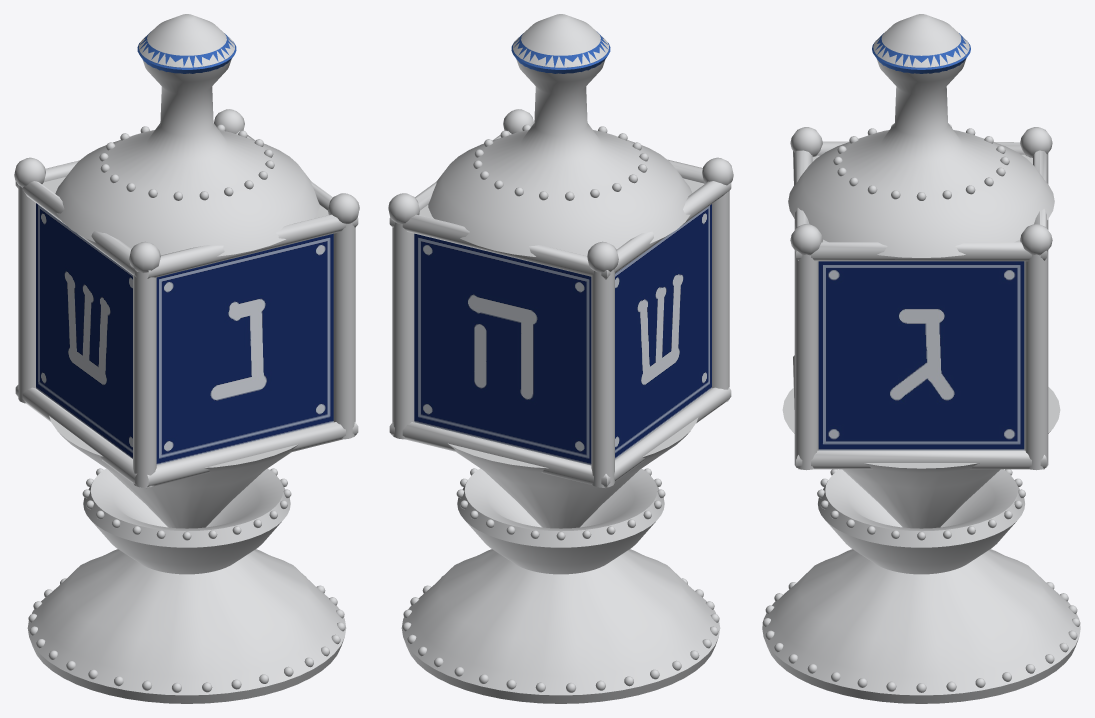
File: dreidel_large.glb
3 renders of one model, left to right at view 1: azimuth 30°, elevation 25°; view 2: azimuth 150°, elevation 25°; view 3: azimuth 270°, elevation 25°, orthographic.
Visible parts, largest first — view 1: Dreidel_Large_Heirloom; view 2: Dreidel_Large_Heirloom; view 3: Dreidel_Large_Heirloom.
Part boxes in pixels (<box>): Dreidel_Large_Heirloom: <box>14,14,359,703</box>; Dreidel_Large_Heirloom: <box>388,14,733,703</box>; Dreidel_Large_Heirloom: <box>762,14,1080,703</box>.
Bounding box in the file's own units: 0.086 × 0.185 × 0.086.
Materials: 3 (1 with a texture image).
